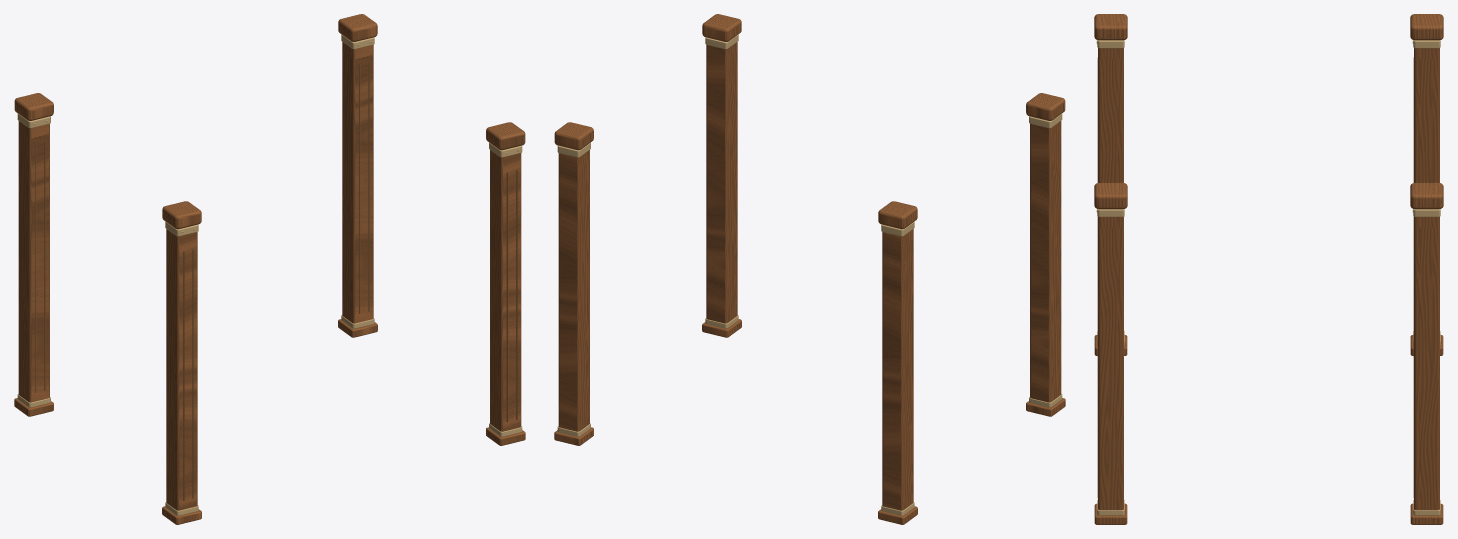
The model's file is theatre_rail_fixed_guides.glb.
The picture shows the model from 3 angles, left to right: view 1: azimuth 30°, elevation 25°; view 2: azimuth 150°, elevation 25°; view 3: azimuth 270°, elevation 25°; orthographic projection. The views are drawn at different scales.
Parts seen in each view (by area): view 1: guide_-0.275_-0.175_shaft, guide_-0.275_0.175_shaft, guide_0.275_-0.175_shaft, guide_0.275_0.175_shaft, guide_0.275_0.175_cap, guide_-0.275_-0.175_cap, guide_-0.275_0.175_cap, guide_0.275_-0.175_cap; view 2: guide_-0.275_-0.175_shaft, guide_0.275_-0.175_shaft, guide_-0.275_0.175_shaft, guide_0.275_0.175_shaft, guide_-0.275_-0.175_cap, guide_0.275_-0.175_cap, guide_-0.275_0.175_cap, guide_0.275_0.175_cap; view 3: guide_0.275_-0.175_shaft, guide_0.275_0.175_shaft, guide_-0.275_-0.175_shaft, guide_-0.275_0.175_shaft, guide_0.275_-0.175_cap, guide_0.275_0.175_cap, guide_-0.275_-0.175_cap, guide_-0.275_0.175_cap, guide_0.275_-0.175_foot, guide_0.275_0.175_foot.
Part boxes in pixels (x1,y1,x2,y2): guide_-0.275_-0.175_shaft: (18, 121, 49, 402); guide_-0.275_0.175_shaft: (166, 229, 197, 510); guide_0.275_-0.175_shaft: (342, 42, 373, 323); guide_0.275_0.175_shaft: (490, 150, 521, 431); guide_0.275_0.175_cap: (486, 122, 525, 150); guide_-0.275_-0.175_cap: (14, 93, 53, 120); guide_-0.275_0.175_cap: (162, 201, 201, 229); guide_0.275_-0.175_cap: (338, 14, 377, 41); guide_-0.275_-0.175_shaft: (882, 229, 913, 510); guide_0.275_-0.175_shaft: (558, 150, 589, 431); guide_-0.275_0.175_shaft: (1030, 121, 1061, 402); guide_0.275_0.175_shaft: (706, 42, 737, 323); guide_-0.275_-0.175_cap: (878, 201, 917, 229); guide_0.275_-0.175_cap: (554, 122, 593, 150); guide_-0.275_0.175_cap: (1026, 93, 1065, 120); guide_0.275_0.175_cap: (702, 14, 741, 41); guide_0.275_-0.175_shaft: (1414, 216, 1439, 510); guide_0.275_0.175_shaft: (1098, 216, 1123, 510); guide_-0.275_-0.175_shaft: (1414, 48, 1439, 182); guide_-0.275_0.175_shaft: (1098, 48, 1123, 182); guide_0.275_-0.175_cap: (1410, 182, 1443, 209); guide_0.275_0.175_cap: (1094, 182, 1127, 209); guide_-0.275_-0.175_cap: (1410, 14, 1443, 40); guide_-0.275_0.175_cap: (1094, 14, 1127, 40); guide_0.275_-0.175_foot: (1410, 503, 1443, 524); guide_0.275_0.175_foot: (1094, 503, 1127, 524).
Size of the model in its own units: 0.596 by 0.501 by 0.481.
Materials: 3 (1 with a texture image).
